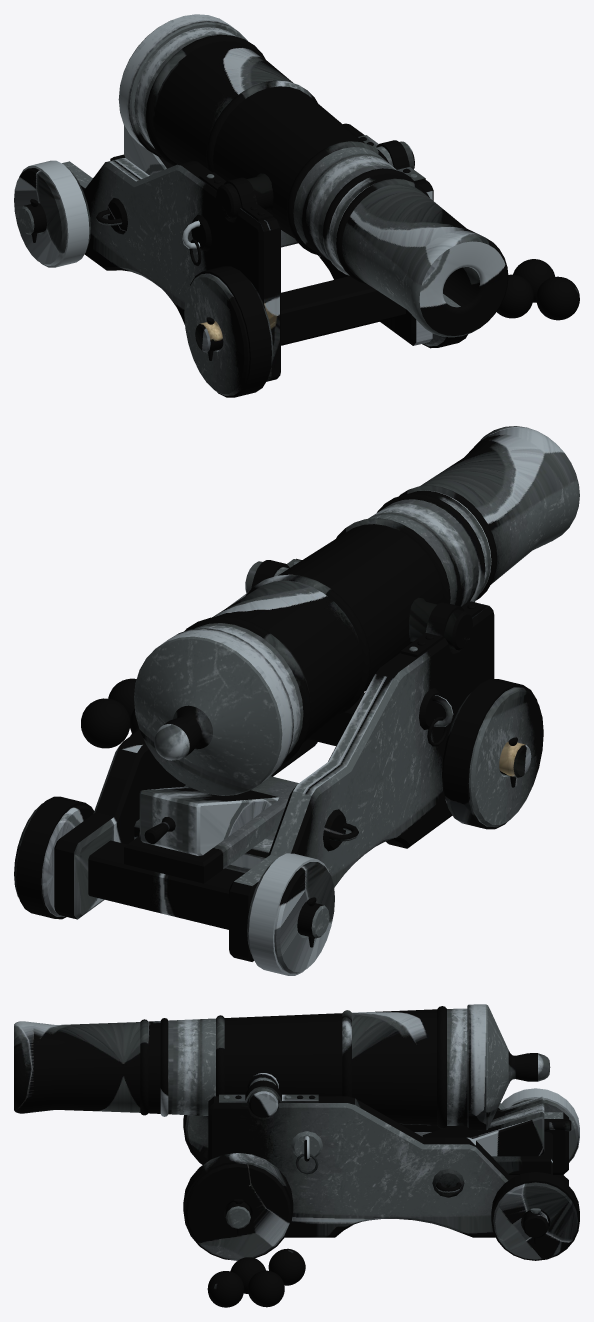
The model's file is Cannon.fbx.
The picture shows the model from 3 angles, top to bottom: view 1: azimuth 30°, elevation 25°; view 2: azimuth 150°, elevation 25°; view 3: azimuth 270°, elevation 25°; orthographic projection. The views are drawn at different scales.
Visible parts, largest first — view 1: Cannon_Barrel, Cannon_Body, Cannon_Frontwheels, Cannon_Backwheels, Cannon_Ball, Cannon_Ball.003, Cannon_Elevationblock, Cannon_Ball.002; view 2: Cannon_Barrel, Cannon_Body, Cannon_Backwheels, Cannon_Frontwheels, Cannon_Elevationblock, Cannon_Ball.002; view 3: Cannon_Barrel, Cannon_Body, Cannon_Frontwheels, Cannon_Backwheels, Cannon_Elevationblock, Cannon_Ball.002, Cannon_Ball, Cannon_Ball.004, Cannon_Ball.003.
Boxes of the visible parts, x1,y1,x2,y2 form: Cannon_Barrel: (118,14,508,337); Cannon_Body: (19,123,433,381); Cannon_Frontwheels: (184,266,467,397); Cannon_Backwheels: (14,160,90,267); Cannon_Ball: (536,276,579,320); Cannon_Ball.003: (496,274,533,318); Cannon_Elevationblock: (124,125,173,175); Cannon_Ball.002: (513,259,555,302); Cannon_Barrel: (134,426,579,795); Cannon_Body: (54,558,531,961); Cannon_Backwheels: (14,796,334,975); Cannon_Frontwheels: (442,679,543,829); Cannon_Elevationblock: (139,786,278,855); Cannon_Ball.002: (81,698,130,748); Cannon_Barrel: (14,1004,550,1130); Cannon_Body: (208,1080,568,1244); Cannon_Frontwheels: (183,1115,293,1260); Cannon_Backwheels: (491,1088,579,1260); Cannon_Elevationblock: (422,1096,571,1156); Cannon_Ball.002: (248,1270,284,1307); Cannon_Ball: (207,1271,244,1307); Cannon_Ball.004: (268,1248,305,1285); Cannon_Ball.003: (230,1257,265,1293).
Size of the model in its own units: 167 by 105 by 264.
